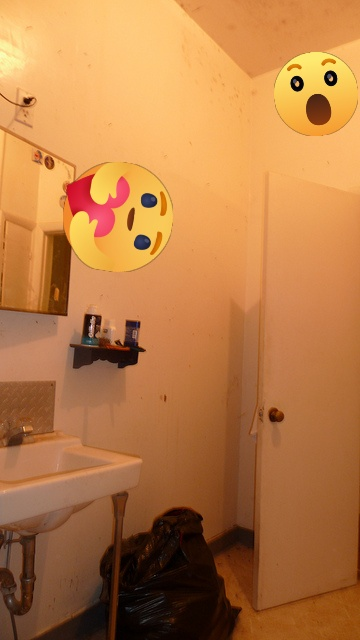care: (63, 162, 173, 272)
wow: (274, 52, 358, 136)
